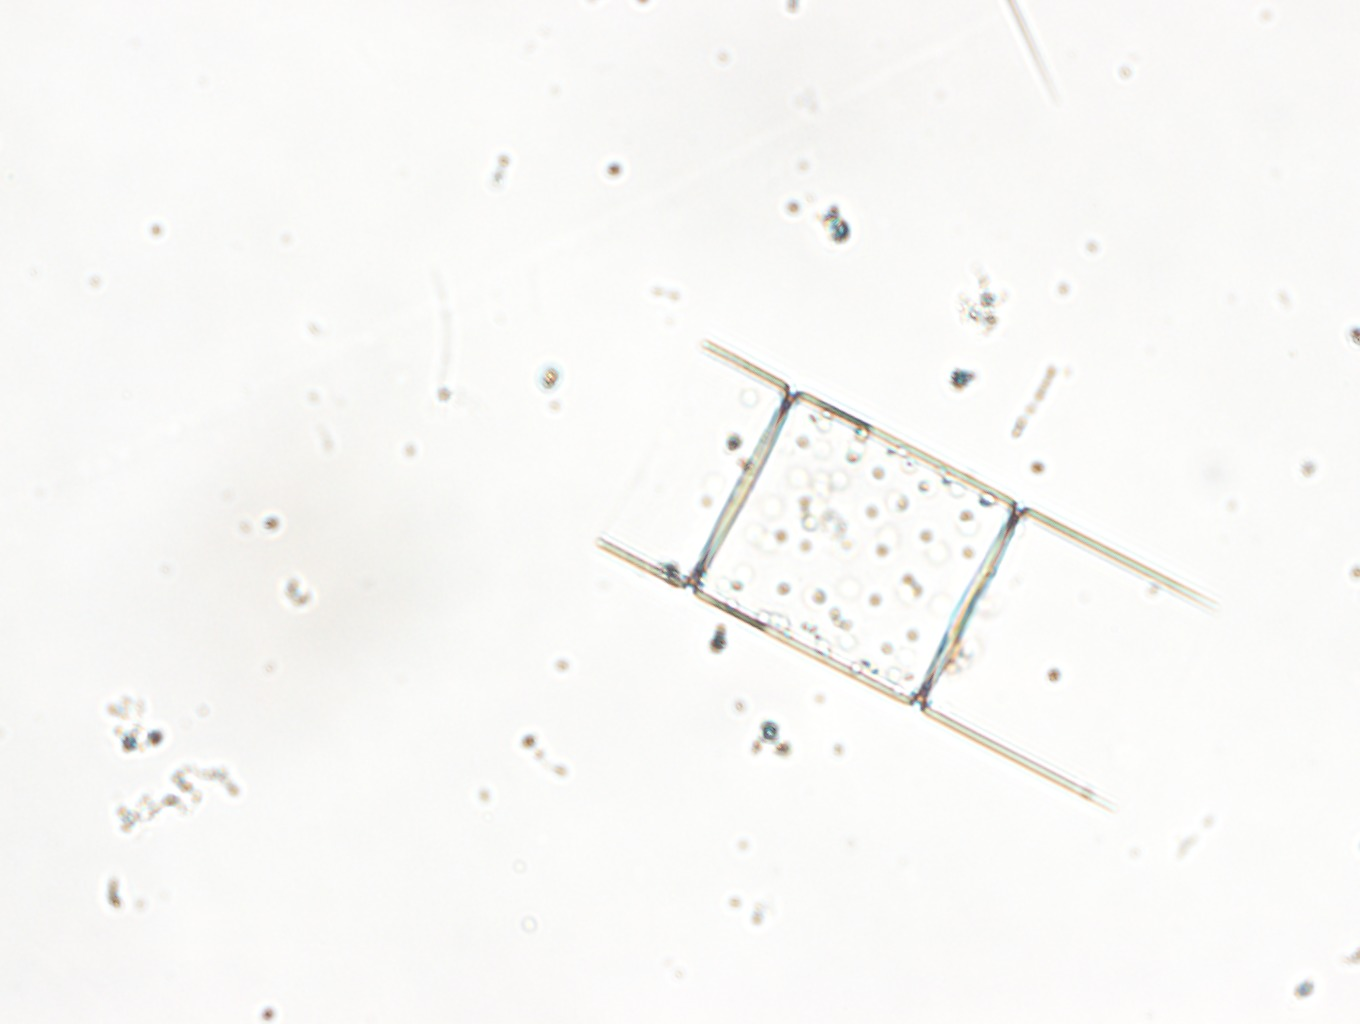guinardia flaccida: (586, 333, 1217, 825)
